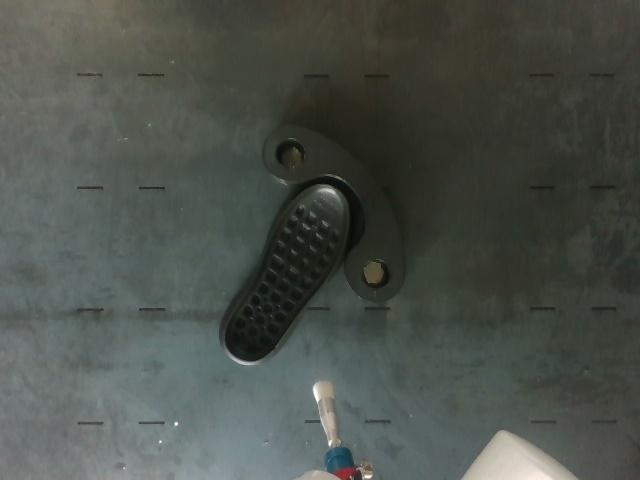shoes: (225, 185, 348, 362)
